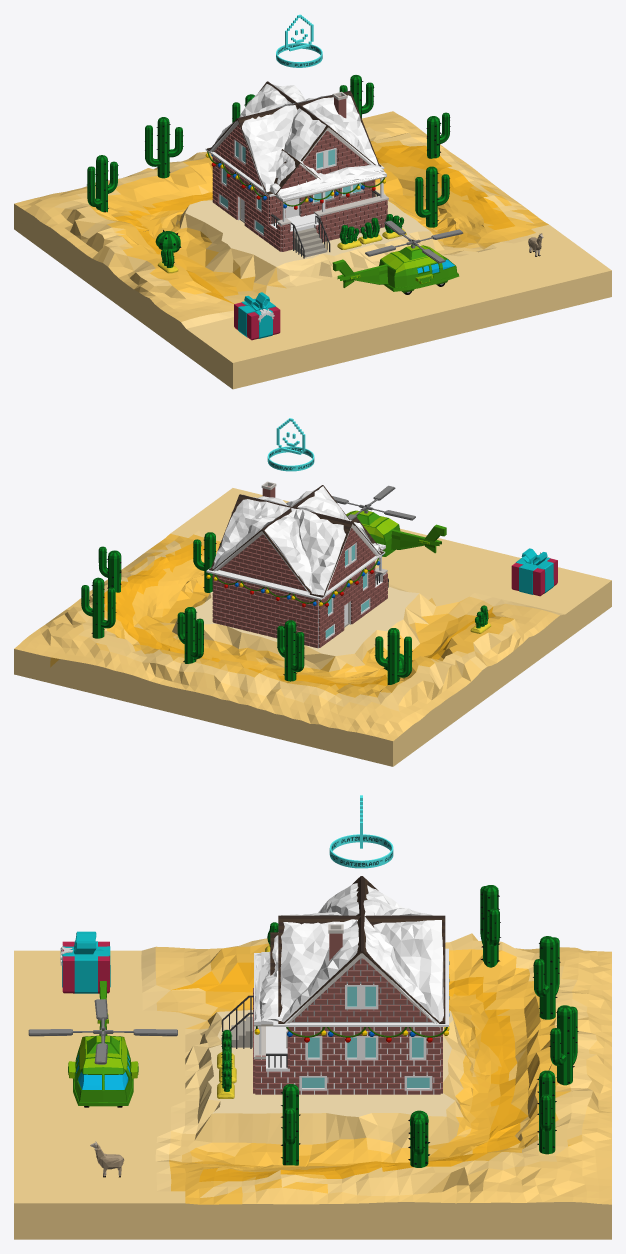
3 views of the same model, one above another, from view 1: azimuth 30°, elevation 25°; view 2: azimuth 150°, elevation 25°; view 3: azimuth 270°, elevation 25° (orthographic). The views are drawn at different scales.
Parts seen in each view (by area): view 1: Cube.001, Cube.1419, VEHICLES_HELICOPTER, OBJRANDOM_GIANT_PRESENT, Cylinder.044, Cylinder.037, Cylinder.045, TYPE_PREMIUM, Cylinder.038, Cylinder.042; view 2: Cube.001, Cube.1419, VEHICLES_HELICOPTER, OBJRANDOM_GIANT_PRESENT, Cylinder.042, Cylinder.045, Cylinder.044, Cylinder.043, TYPE_PREMIUM, Cylinder.037, Cylinder.038; view 3: Cube.001, Cube.1419, VEHICLES_HELICOPTER, OBJRANDOM_GIANT_PRESENT, Cylinder.044, Cylinder.043, Cylinder.045, Cylinder.042, Cylinder.037, TYPE_PREMIUM, Cylinder.038.
Boxes of the visible parts, <box> form: Cube.001: <box>14,111,611,389</box>; Cube.1419: <box>205,81,388,258</box>; VEHICLES_HELICOPTER: <box>332,220,463,294</box>; OBJRANDOM_GIANT_PRESENT: <box>234,292,280,340</box>; Cylinder.044: <box>145,117,183,178</box>; Cylinder.037: <box>415,166,449,227</box>; Cylinder.045: <box>87,155,118,212</box>; TYPE_PREMIUM: <box>276,14,322,67</box>; Cylinder.038: <box>426,112,450,158</box>; Cylinder.042: <box>339,75,374,118</box>; Cube.001: <box>14,488,611,766</box>; Cube.1419: <box>206,481,388,648</box>; VEHICLES_HELICOPTER: <box>332,485,446,556</box>; OBJRANDOM_GIANT_PRESENT: <box>511,548,557,596</box>; Cylinder.042: <box>81,577,116,638</box>; Cylinder.045: <box>374,628,412,684</box>; Cylinder.044: <box>277,620,304,681</box>; Cylinder.043: <box>177,607,203,663</box>; TYPE_PREMIUM: <box>267,418,314,471</box>; Cylinder.037: <box>193,532,220,592</box>; Cylinder.038: <box>98,546,121,592</box>; Cube.001: <box>14,933,611,1239</box>; Cube.1419: <box>221,876,449,1094</box>; VEHICLES_HELICOPTER: <box>28,981,177,1107</box>; OBJRANDOM_GIANT_PRESENT: <box>60,931,110,993</box>; Cylinder.044: <box>533,936,560,1019</box>; Cylinder.043: <box>549,1005,578,1085</box>; Cylinder.045: <box>480,885,500,967</box>; Cylinder.042: <box>537,1070,556,1154</box>; Cylinder.037: <box>281,1084,300,1165</box>; TYPE_PREMIUM: <box>329,795,393,868</box>; Cylinder.038: <box>408,1110,429,1167</box>.
Size of the model in its own units: 4002 by 2387 by 4001.
Materials: 39 (4 with a texture image).
